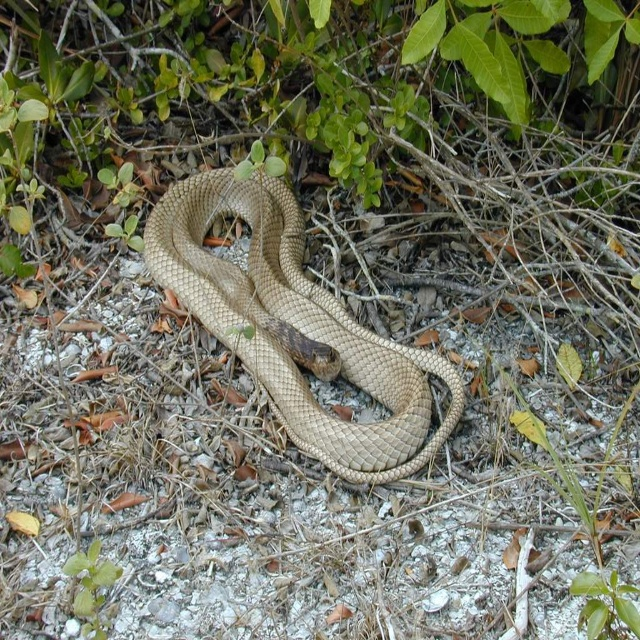Snake: (142, 166, 465, 486)
